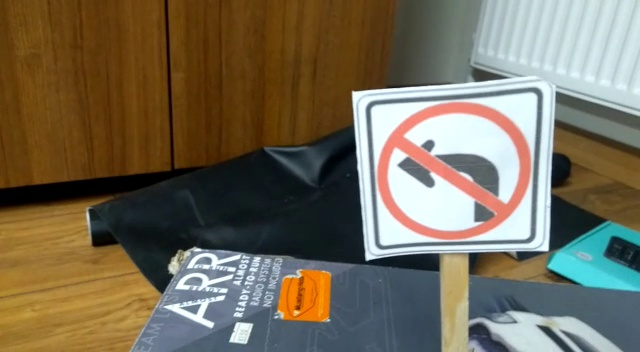sola_donulmez: (367, 84, 545, 254)
